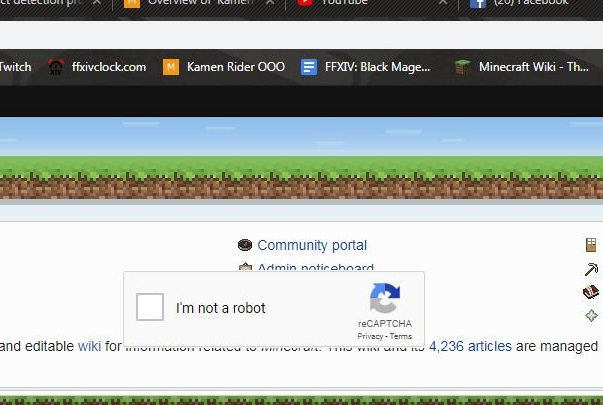captcha: (136, 293, 266, 321)
